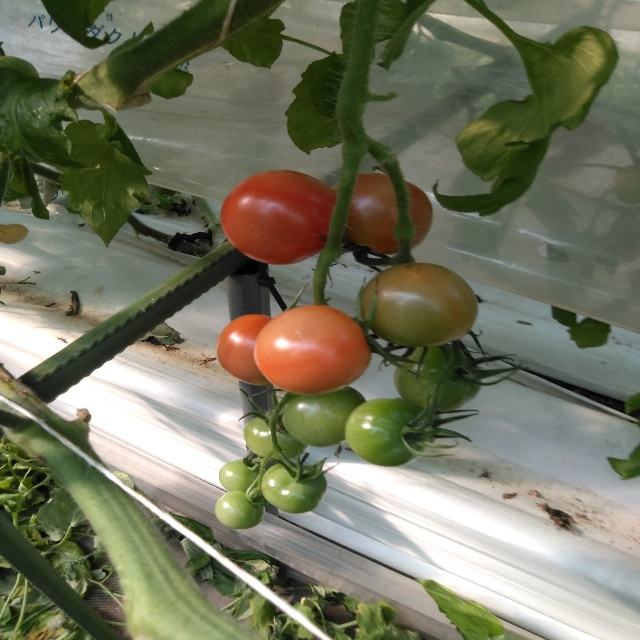l_fully_ripened: (220, 170, 344, 265), (254, 304, 372, 396), (217, 314, 273, 386)
l_green: (345, 398, 433, 466), (395, 344, 481, 410), (283, 385, 367, 447), (260, 462, 327, 514), (244, 413, 310, 460), (214, 490, 265, 529), (219, 459, 265, 494)
l_half_ripened: (359, 262, 478, 348), (330, 172, 433, 255)
